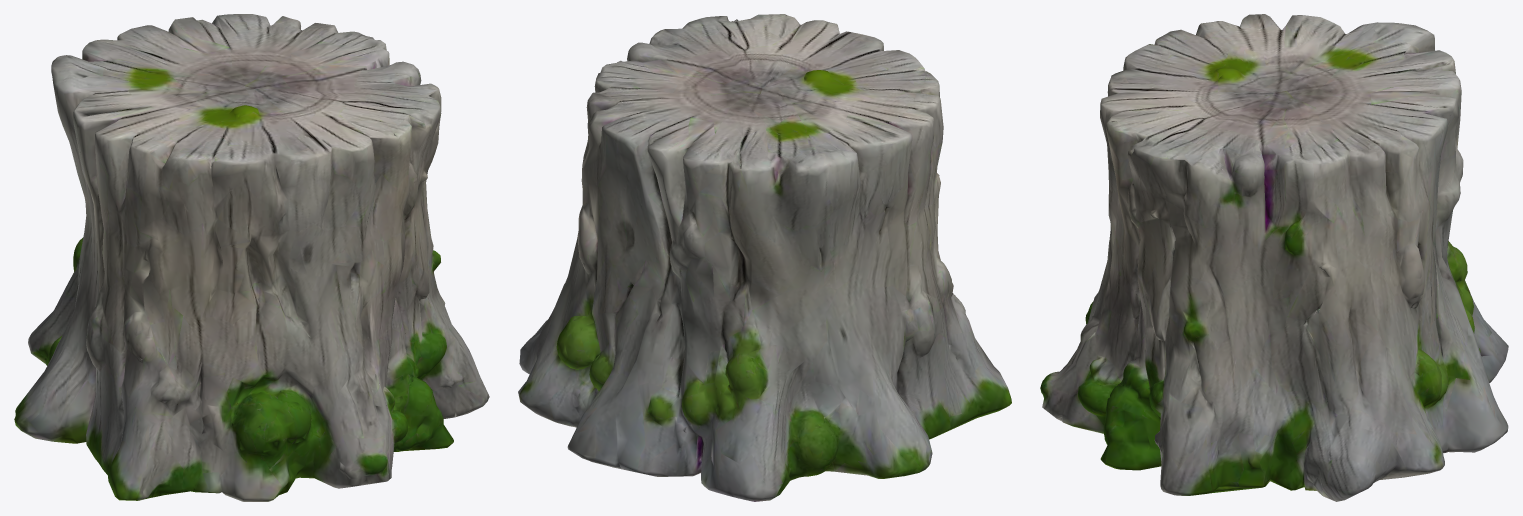
Rendered from prop-tree-stump.glb.
3 renders of one model, left to right at view 1: azimuth 30°, elevation 25°; view 2: azimuth 150°, elevation 25°; view 3: azimuth 270°, elevation 25°, orthographic. The views are drawn at different scales.
Bounding box in the file's own units: 1.9 × 1.48 × 1.91.
Materials: 1 (1 with a texture image).
